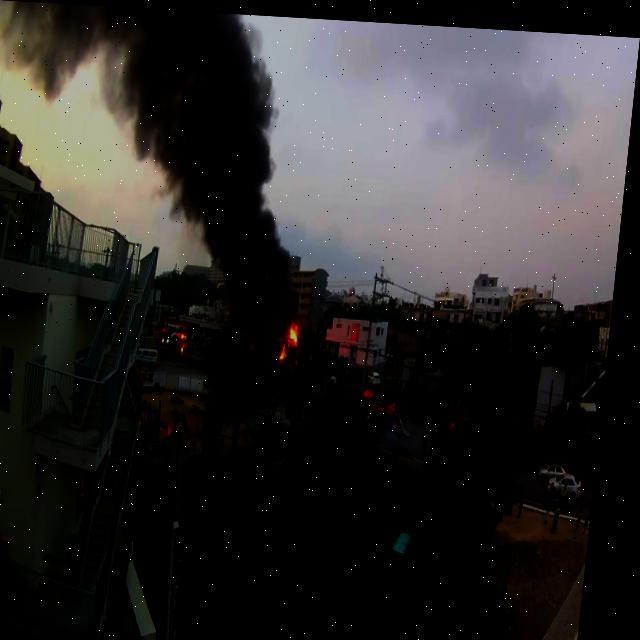Fire: (293, 318, 310, 339), (286, 341, 296, 355)
